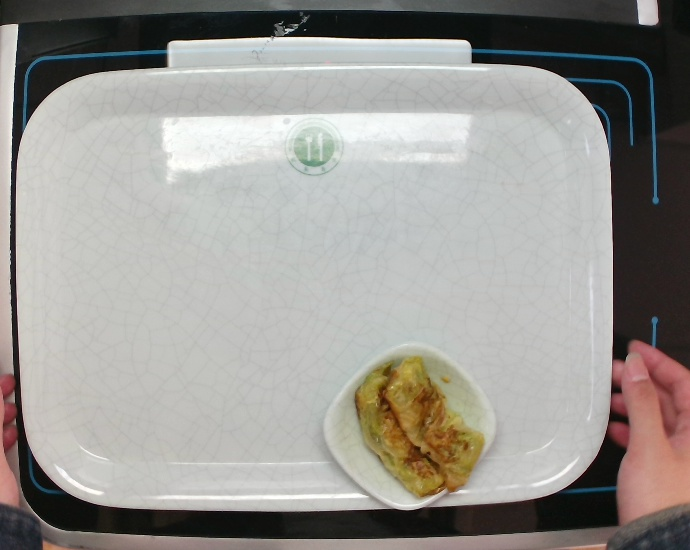JYsf-Si_Fang_Die: (317, 340, 500, 515)
